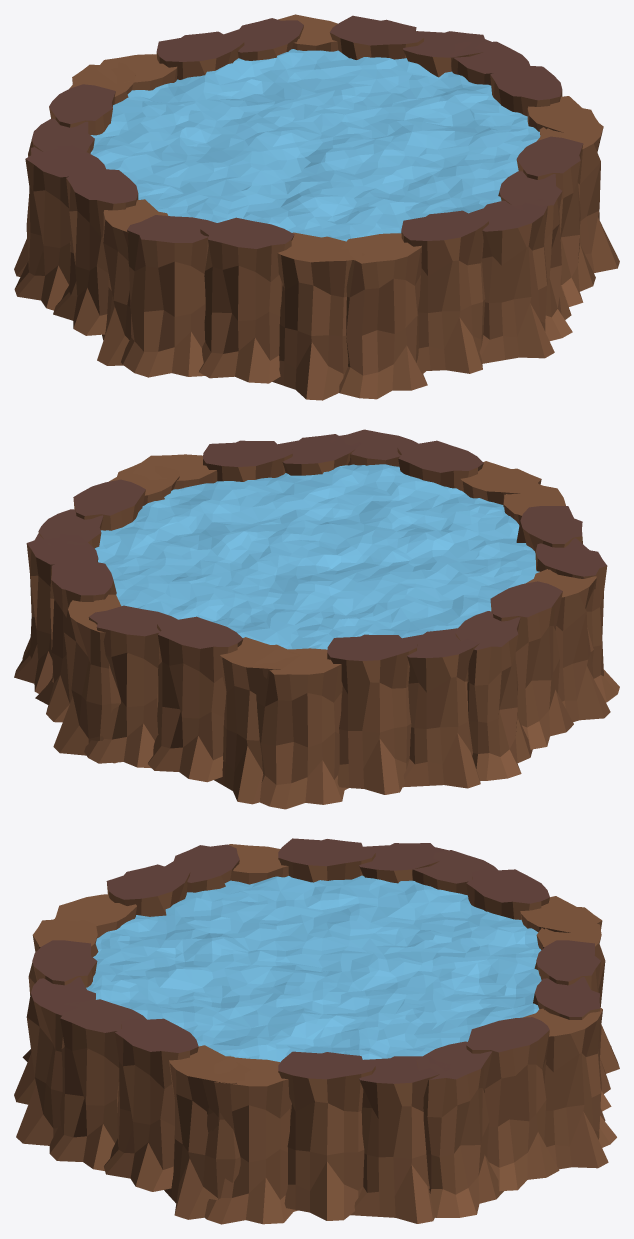
Rendered from structure_lake_1.fbx.
3 renders of one model, top to bottom at view 1: azimuth 30°, elevation 25°; view 2: azimuth 150°, elevation 25°; view 3: azimuth 270°, elevation 25°, orthographic. The views are drawn at different scales.
Visible parts, largest first — view 1: Cylinder.007, Plane; view 2: Cylinder.007, Plane; view 3: Cylinder.007, Plane.
Part boxes in pixels (x1,y1,x2,y2): Cylinder.007: [14, 14, 619, 400]; Plane: [90, 49, 540, 241]; Cylinder.007: [14, 429, 619, 809]; Plane: [95, 464, 539, 649]; Cylinder.007: [14, 838, 619, 1224]; Plane: [86, 875, 541, 1062].
Bounding box in the file's own units: 2051 × 537 × 2050.
